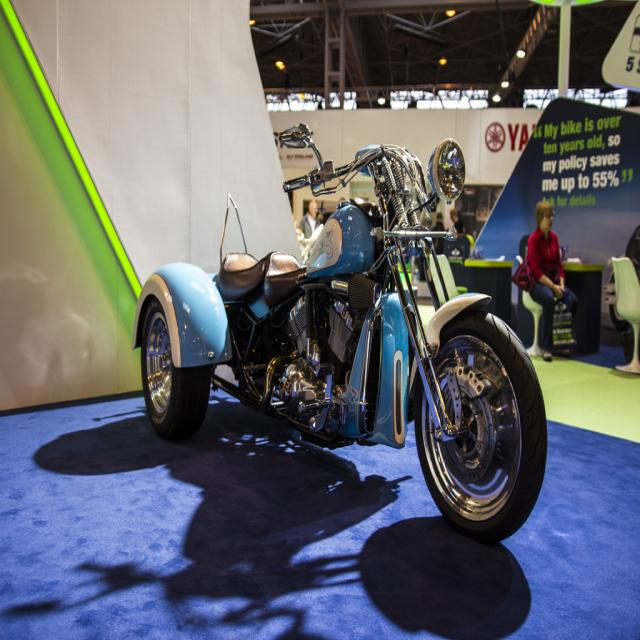Motorbikes: (128, 120, 550, 553)
